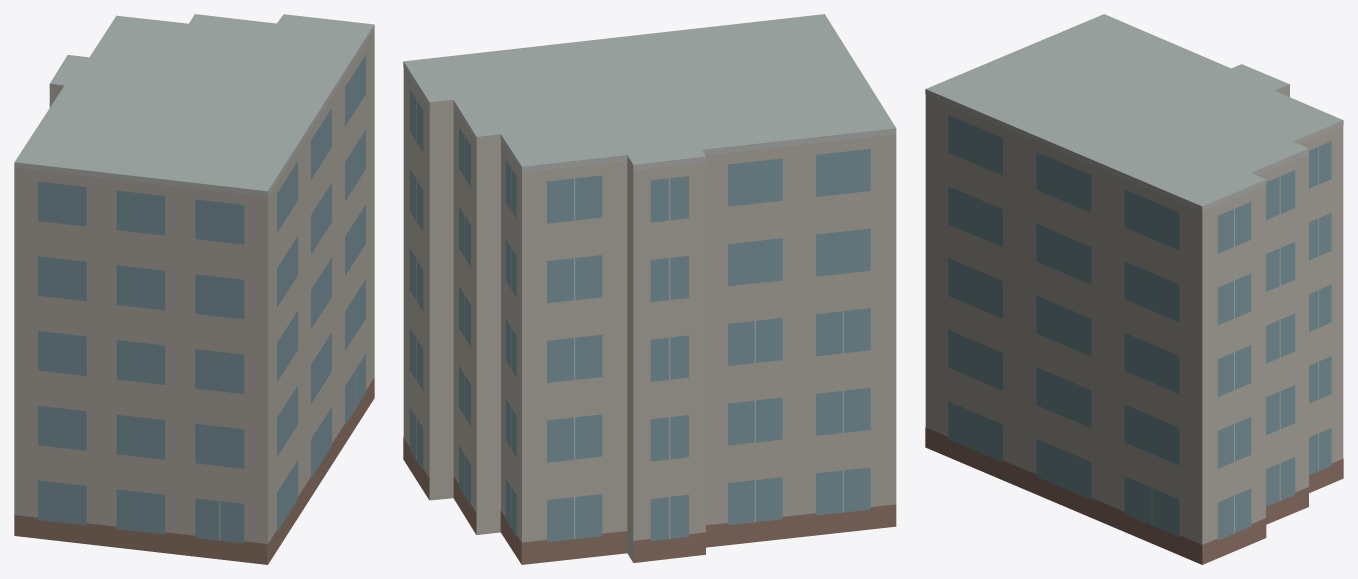
File: survey-upis-32598095.glb
3 renders of one model, left to right at view 1: azimuth 30°, elevation 25°; view 2: azimuth 150°, elevation 25°; view 3: azimuth 270°, elevation 25°, orthographic. The views are drawn at different scales.
Parts seen in each view (by area): view 1: survey-upis-32598095.tmp; view 2: survey-upis-32598095.tmp; view 3: survey-upis-32598095.tmp.
Part boxes in pixels (x1,y1,x2,y2): survey-upis-32598095.tmp: (14, 14, 374, 564); survey-upis-32598095.tmp: (403, 14, 896, 564); survey-upis-32598095.tmp: (925, 14, 1343, 564).
Size of the model in its own units: 18.55 by 16.1 by 17.02.
